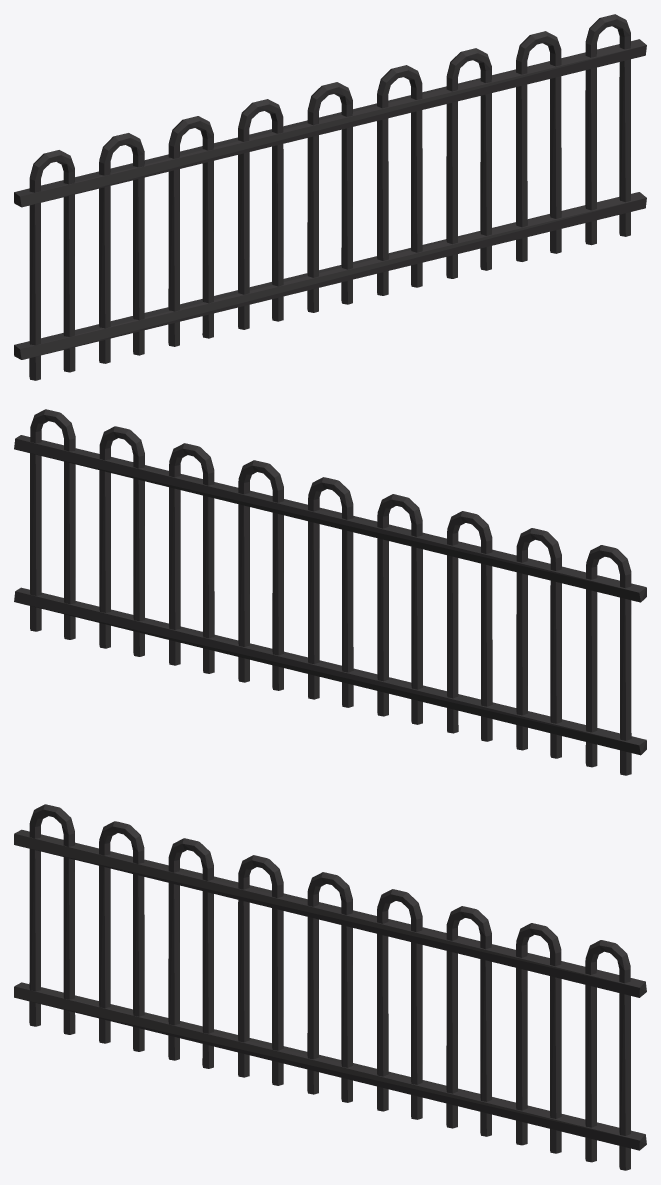
File: fence3.fbx
3 renders of one model, top to bottom at view 1: azimuth 30°, elevation 25°; view 2: azimuth 150°, elevation 25°; view 3: azimuth 330°, elevation 25°, orthographic.
Visible parts, largest first — view 1: mesh; view 2: mesh; view 3: mesh.
Boxes of the visible parts, <box> form: mesh: <box>14,14,646,380</box>; mesh: <box>14,409,646,775</box>; mesh: <box>14,804,646,1170</box>.
Size of the model in its own units: 286 by 97.08 by 6.07.
